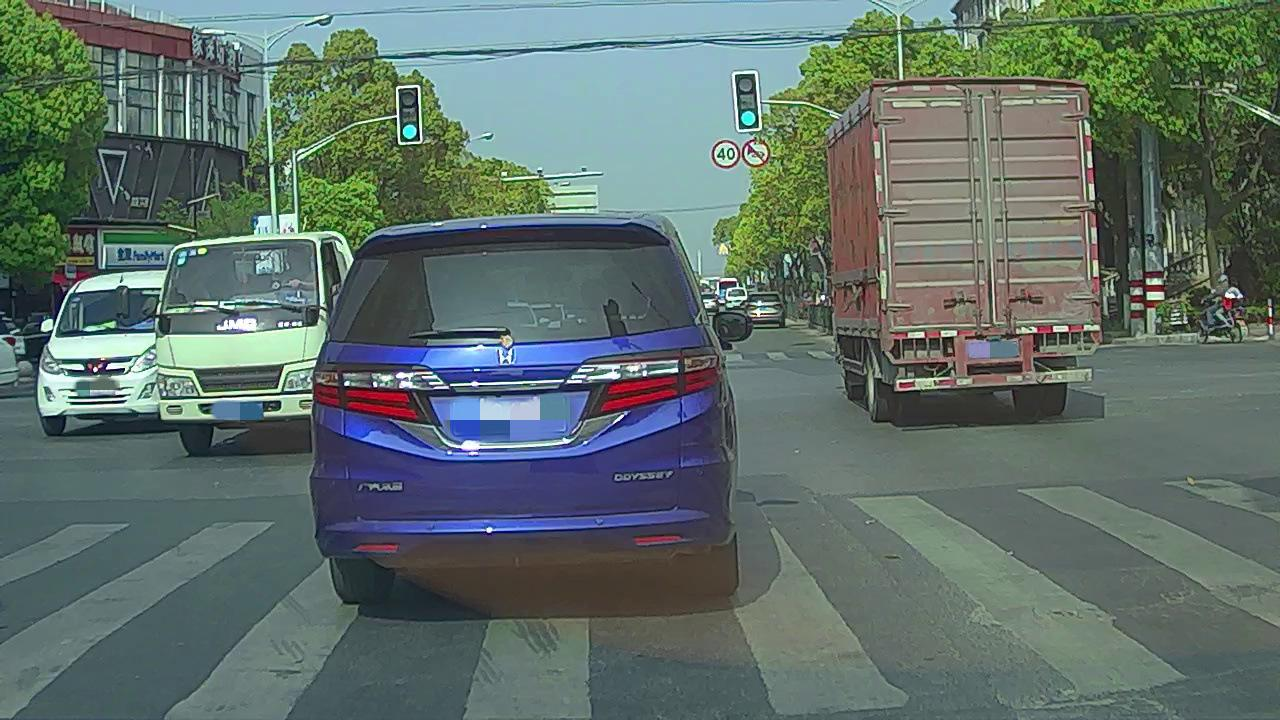traffic_light: (734, 72, 761, 131), (396, 86, 422, 144)
